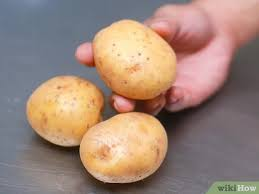potato: (91, 17, 179, 93), (21, 74, 98, 143), (84, 112, 166, 173)
